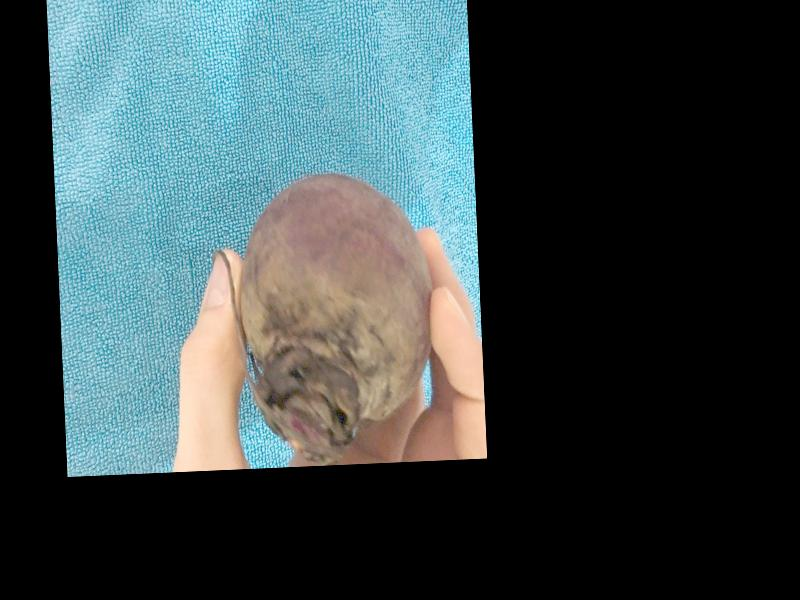Beet: (210, 169, 439, 464)
